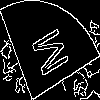M: (24, 25, 70, 83)
